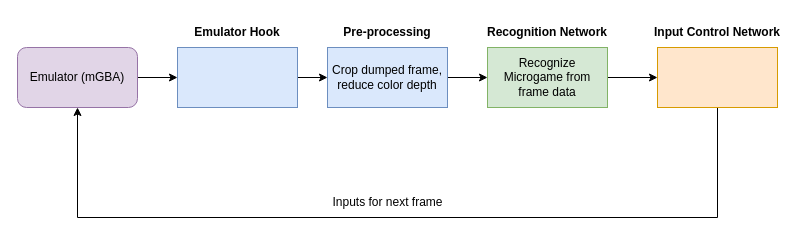
The diagram is 800 pixels wide and 243 high, and some of its shapes have lost their labels. Here are the shapes that lost their labels. From the top down, the centre of each, then its label:
At (x=237, y=77): "Dump game info (current frame, specific memory values)".
At (x=717, y=77): "Determine inputs based on recognized game".
